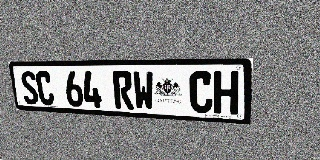4: (81, 71, 102, 108)
6: (63, 71, 84, 107)
C: (189, 71, 213, 113), (35, 71, 55, 106)
H: (213, 71, 239, 115)
R: (112, 71, 134, 110)
S: (20, 71, 39, 105)
W: (132, 71, 155, 111)
